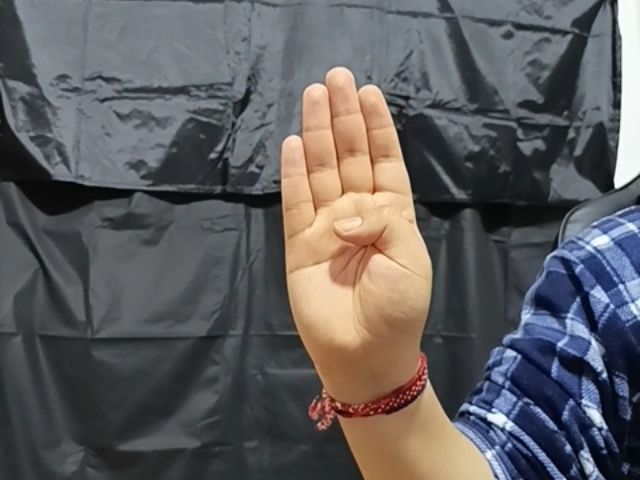B: (274, 62, 441, 385)
